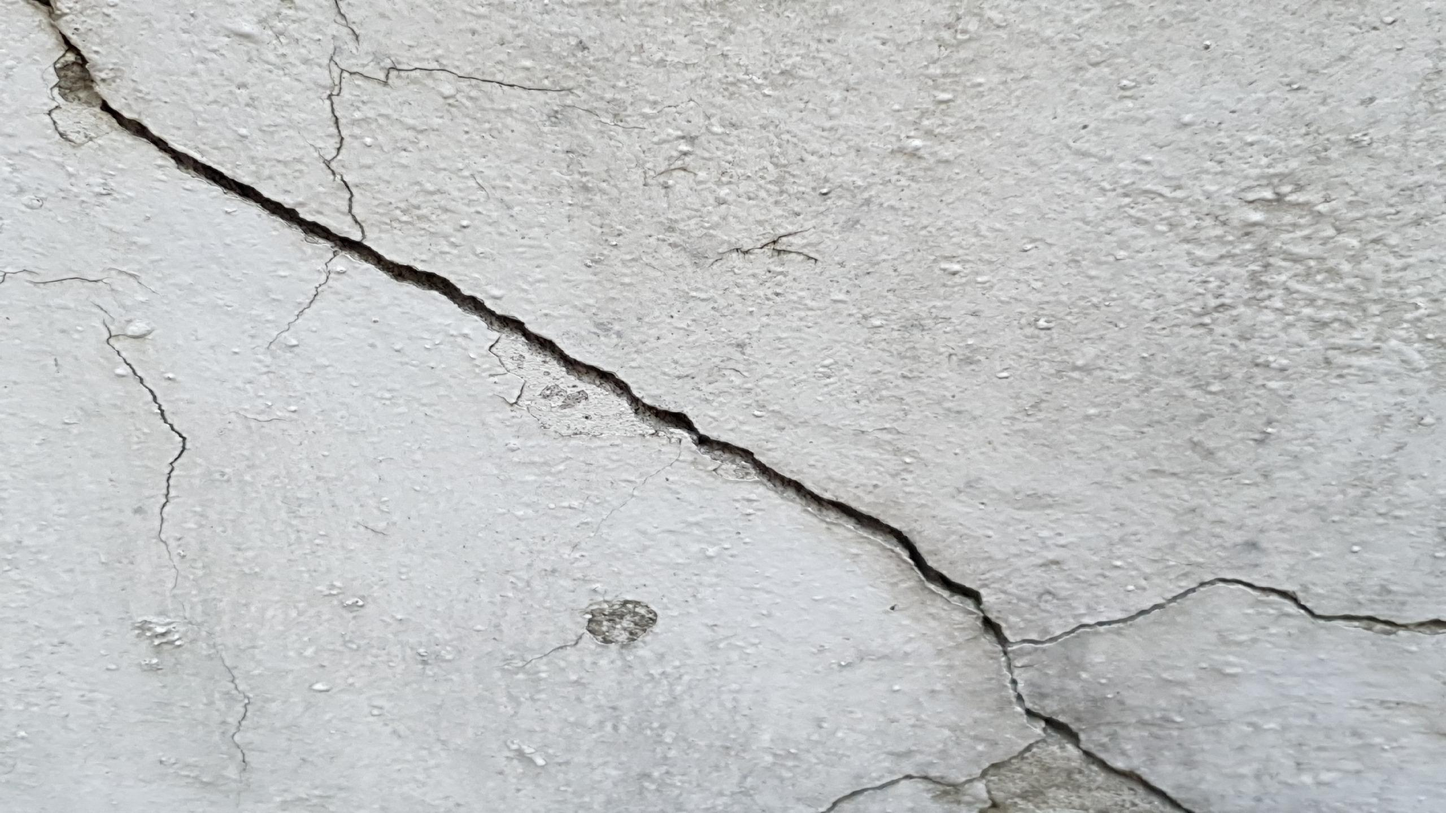crack: (63, 28, 1445, 812)
